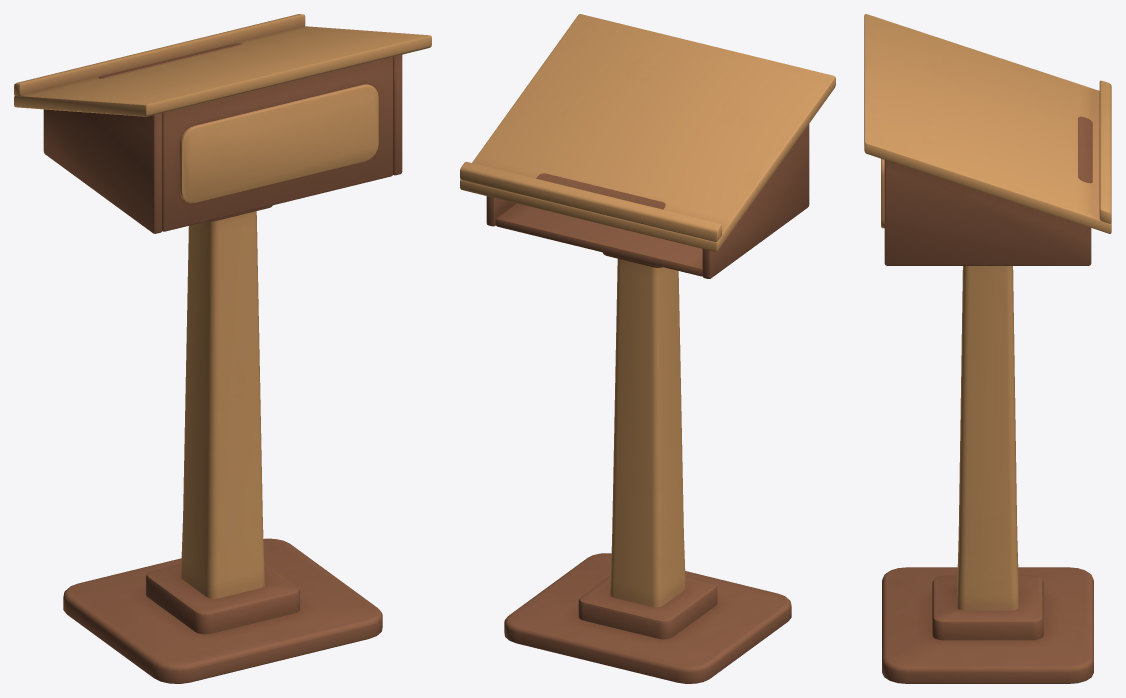
File: lectern.glb
3 renders of one model, left to right at view 1: azimuth 30°, elevation 25°; view 2: azimuth 150°, elevation 25°; view 3: azimuth 270°, elevation 25°, orthographic. The views are drawn at different scales.
Parts seen in each view (by area): view 1: lectern_body; view 2: lectern_body; view 3: lectern_body.
Part boxes in pixels (x1=…): lectern_body: x1=14, y1=14, x2=431, y2=683; lectern_body: x1=460, y1=14, x2=835, y2=683; lectern_body: x1=864, y1=14, x2=1111, y2=683.
Bounding box in the file's own units: 0.61 × 1.21 × 0.49.
Materials: 1 (1 with a texture image).
